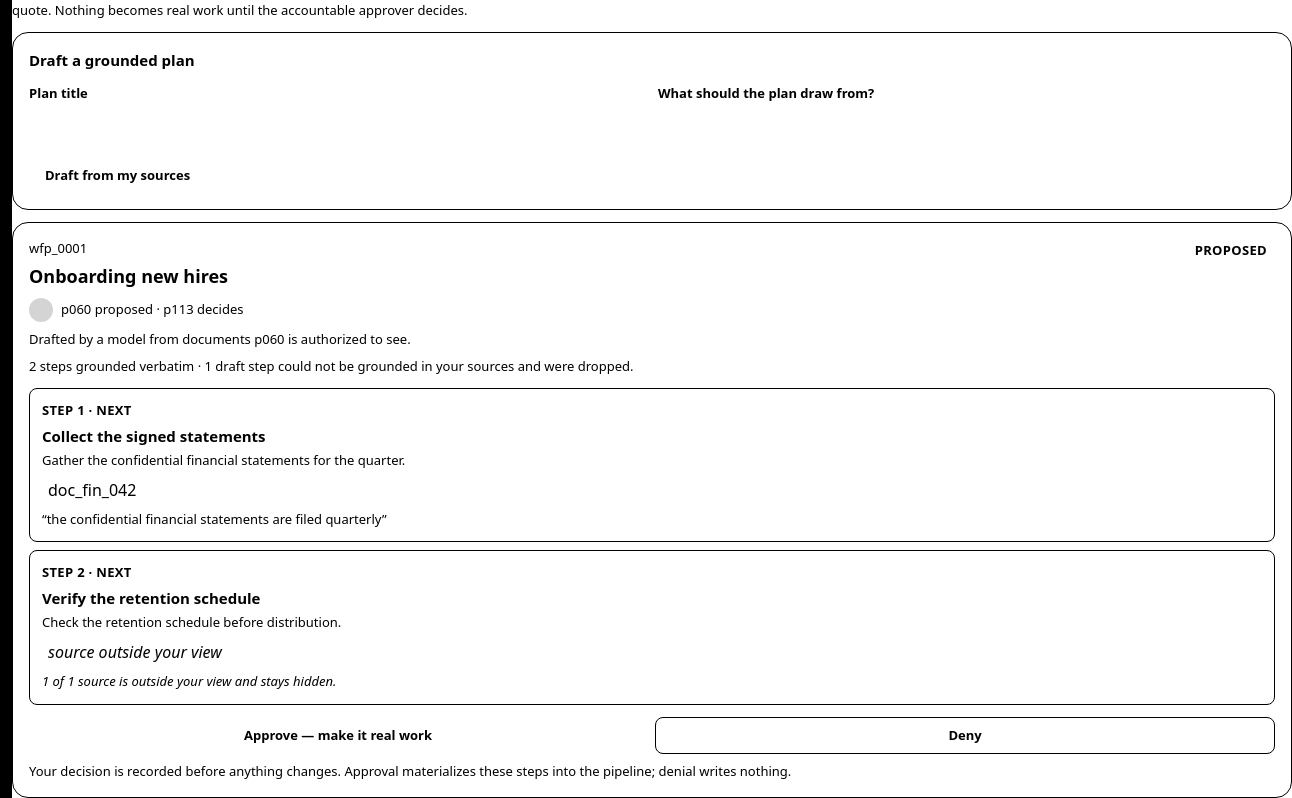
Test: WFP-3: the human gate — approver-only live decision, reload on 2xx › deny records the decision and materializes nothing
(page scrolled)
Step 1. Click the button with test id "proposal-gate-deny" → [965, 736], box x1=655 y1=717 x2=1275 y2=754
(page scrolled)
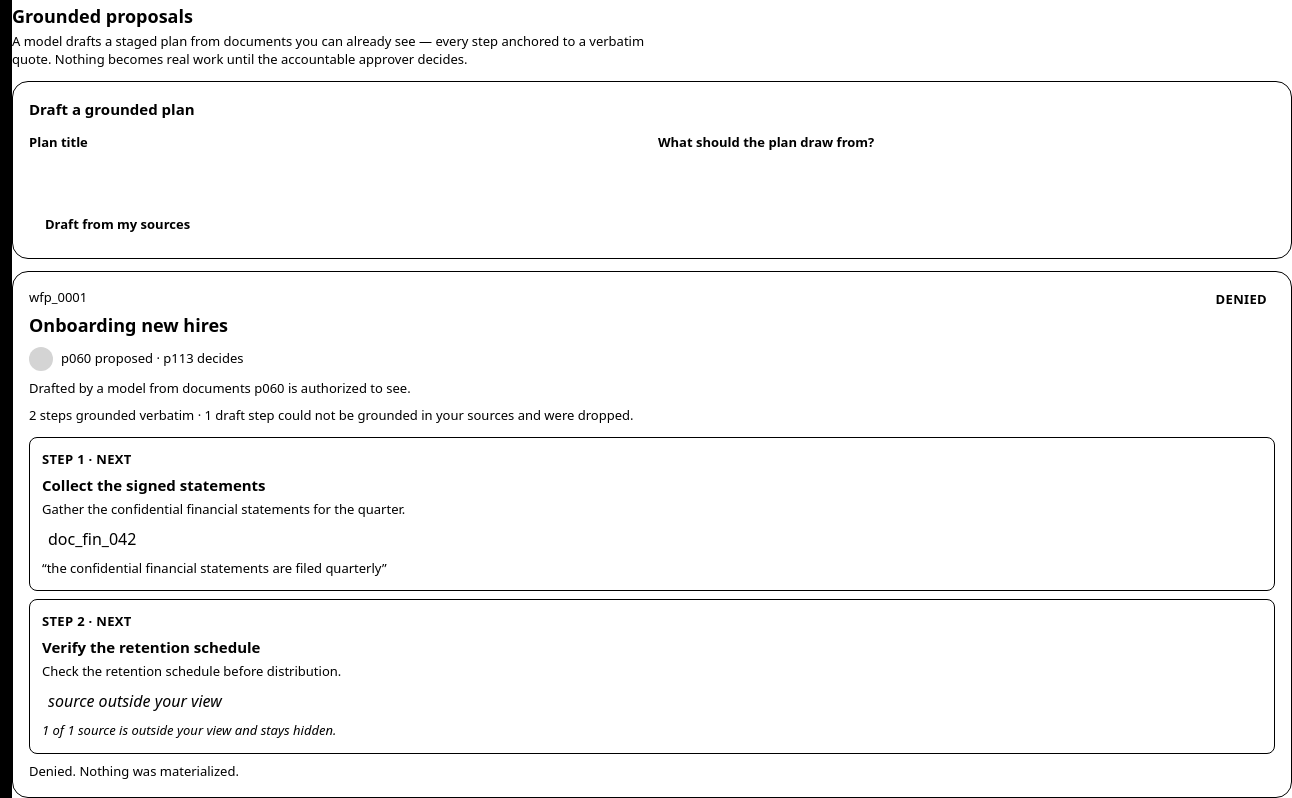
Expected: the message with test id "proposal-gate-feedback" reads "Denied. Nothing was materialized.", x1=29 y1=762 x2=239 y2=780
Expected: the text with test id "proposal-status-chip" reads "Denied", x1=1216 y1=290 x2=1267 y2=308
